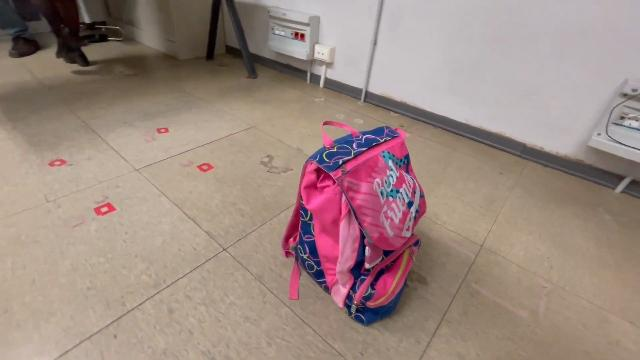Backpack: (276, 116, 432, 330)
